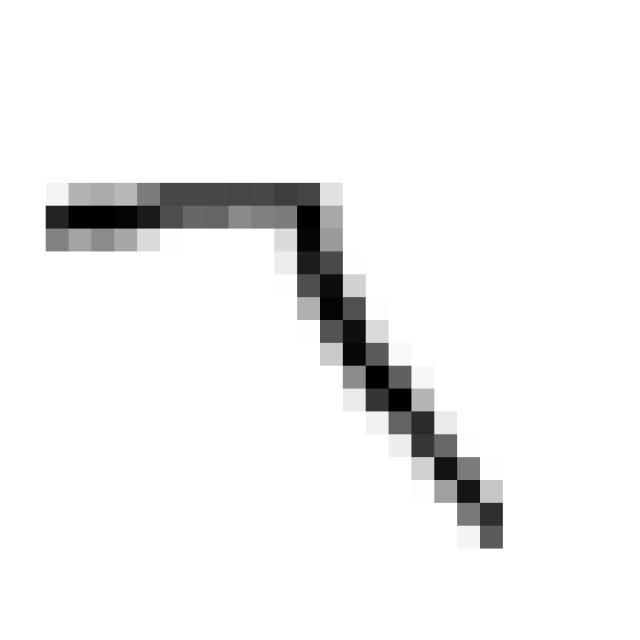6 -six-: (25, 158, 522, 564)
